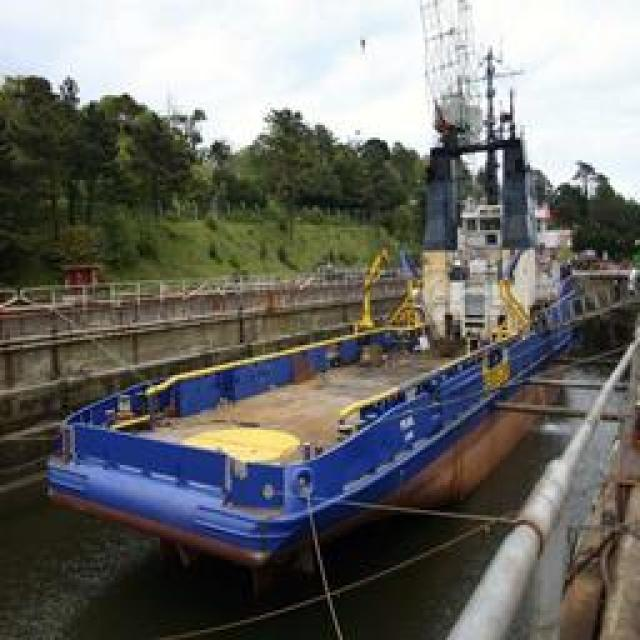CIV_Ship: (40, 265, 592, 585)
